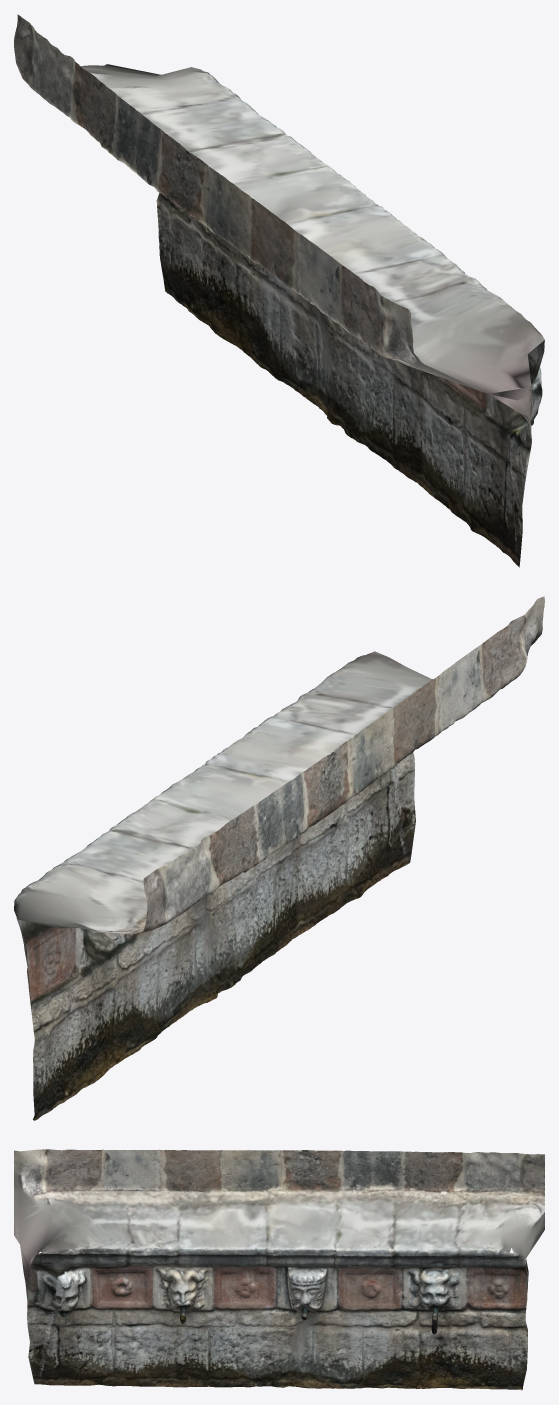
File: ReGatto-optimized.glb
3 views of the same model, one above another, from view 1: azimuth 30°, elevation 25°; view 2: azimuth 150°, elevation 25°; view 3: azimuth 270°, elevation 25° (orthographic). The views are drawn at different scales.
Visible parts, largest first — view 1: 3DModel; view 2: 3DModel; view 3: 3DModel.
Part boxes in pixels (x1,y1,x2,y2): 3DModel: (14,14,544,567); 3DModel: (14,596,544,1120); 3DModel: (14,1149,544,1390).
Size of the model in its own units: 11315 by 17349 by 43025.
Materials: 1 (1 with a texture image).
